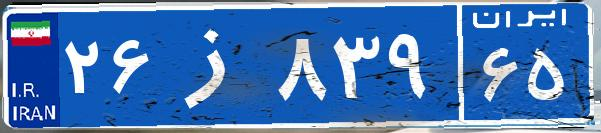2: (57, 26, 110, 107)
3: (330, 28, 385, 110)
5: (525, 38, 570, 115)
6: (475, 38, 525, 113), (110, 28, 158, 105)
8: (273, 28, 330, 110)
9: (385, 28, 445, 110)
ز: (158, 15, 273, 115)
